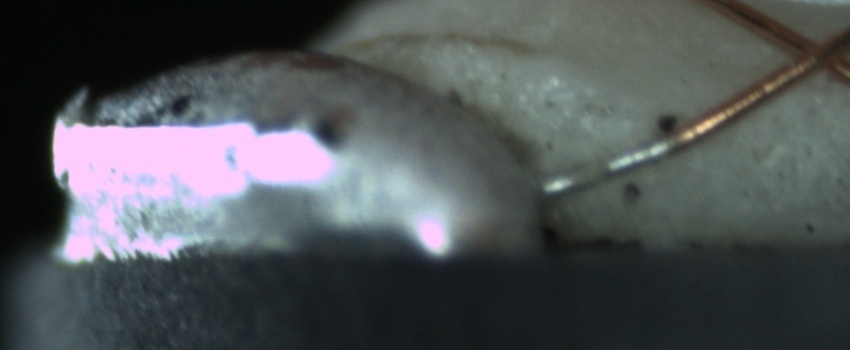CL: (764, 20, 848, 90)
TS: (534, 131, 675, 198)
